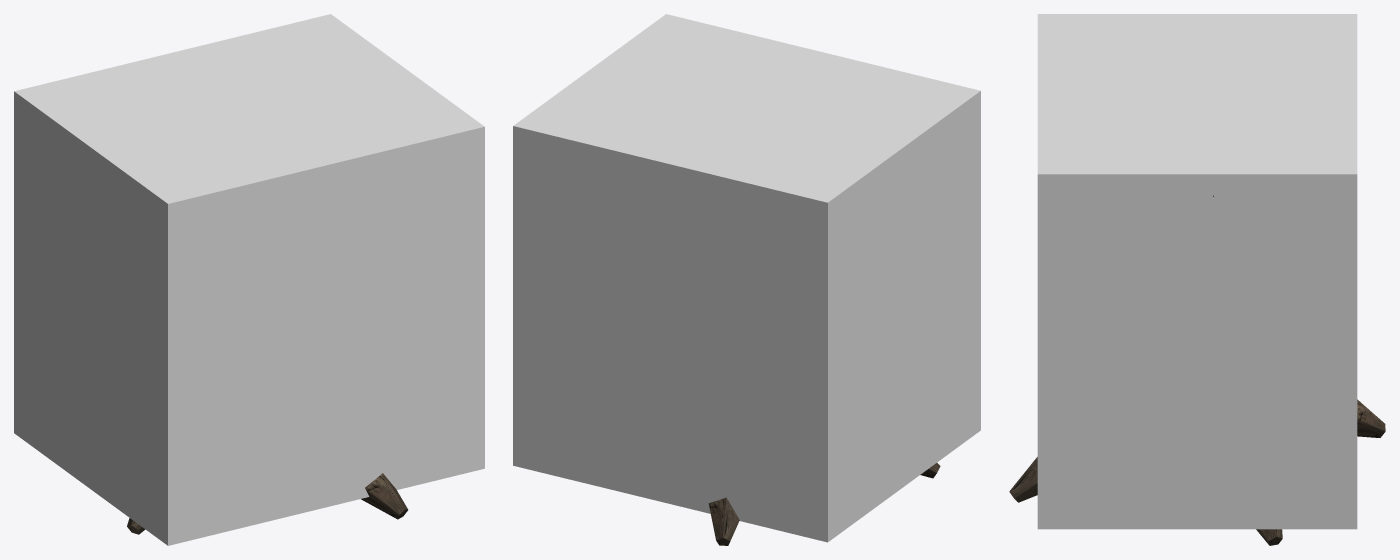
The model's file is anvil_stump_v1.glb.
The picture shows the model from 3 angles, left to right: view 1: azimuth 30°, elevation 25°; view 2: azimuth 150°, elevation 25°; view 3: azimuth 270°, elevation 25°; orthographic projection. The views are drawn at different scales.
Visible parts, largest first — view 1: col_anvil, anvil_stump; view 2: col_anvil, anvil_stump; view 3: col_anvil, anvil_stump.
Boxes of the visible parts, x1,y1,x2,y2 form: col_anvil: (14,14,484,545); anvil_stump: (127,473,408,534); col_anvil: (513,14,980,542); anvil_stump: (708,463,940,545); col_anvil: (1037,14,1357,529); anvil_stump: (1009,195,1385,545).
Size of the model in its own units: 0.9504 by 1.03 by 0.9416.
2 materials, 2 textured.
